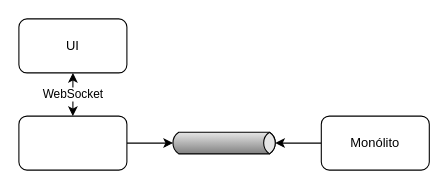
The diagram is 448 pixels wide and 193 high, and some of its shapes have lost their labels. The box of each missing label's shape, as (x1, y1, x2, y2) in pixels:
API Gateway: (18, 115, 127, 170)
pedidoComStatusAtualizado: (169, 131, 278, 154)
